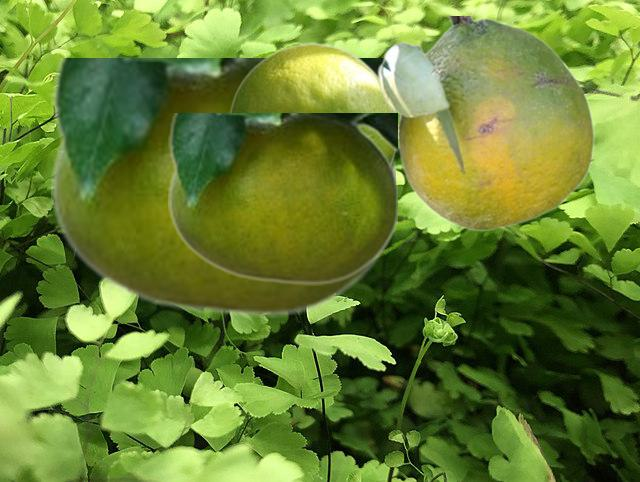dalandan: (51, 58, 394, 316), (376, 16, 594, 230), (168, 113, 396, 284), (229, 42, 397, 164)
